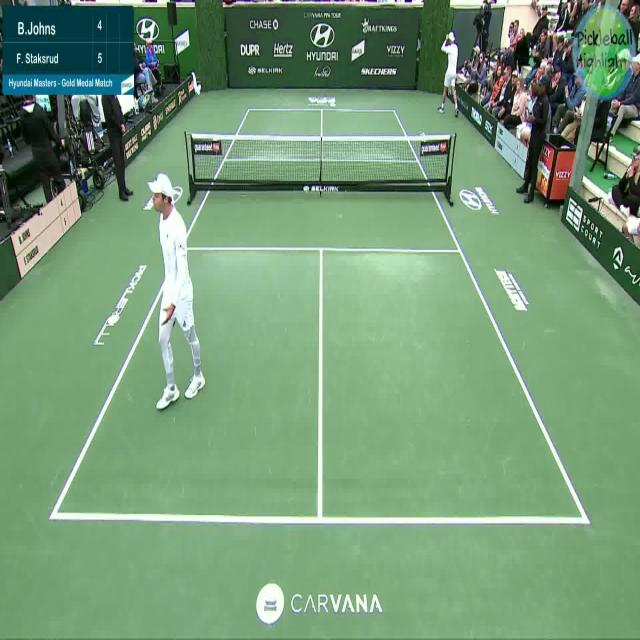Court: (49, 109, 587, 524)
